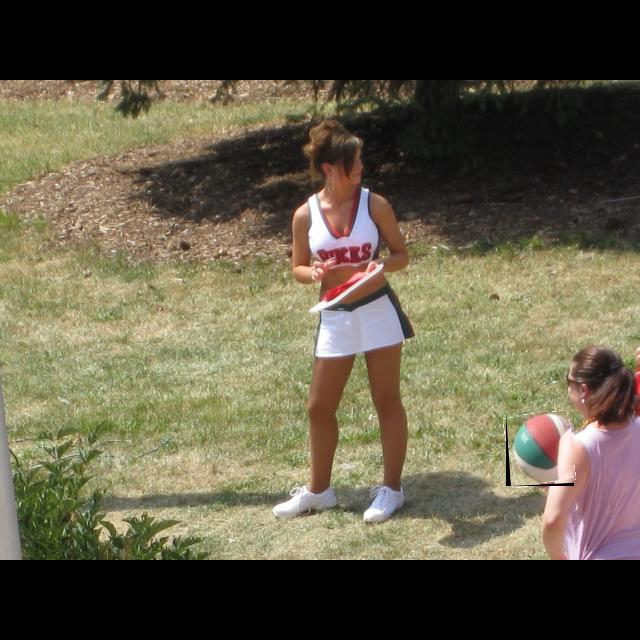Football: (506, 412, 574, 486)
